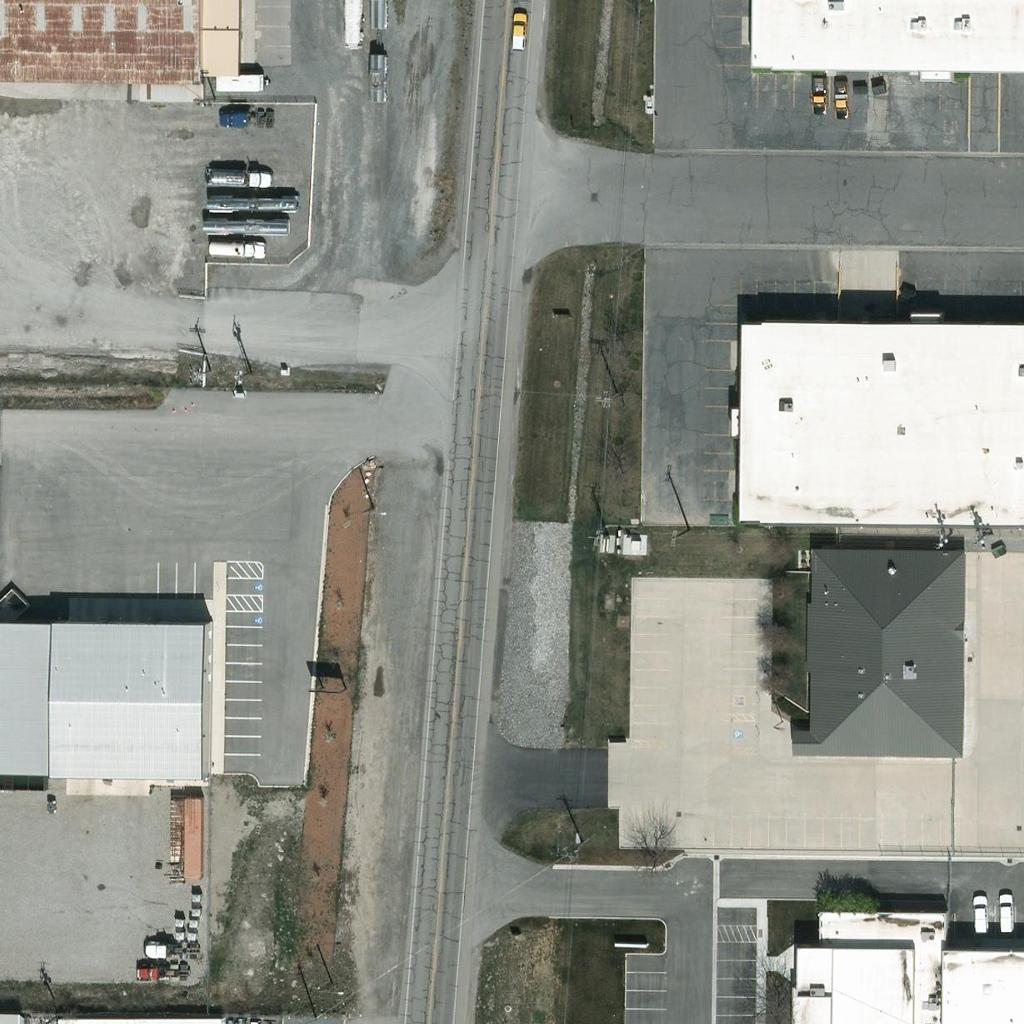car: (501, 13, 535, 47), (801, 83, 835, 117), (822, 87, 856, 121), (987, 894, 1021, 928), (961, 895, 995, 929)
